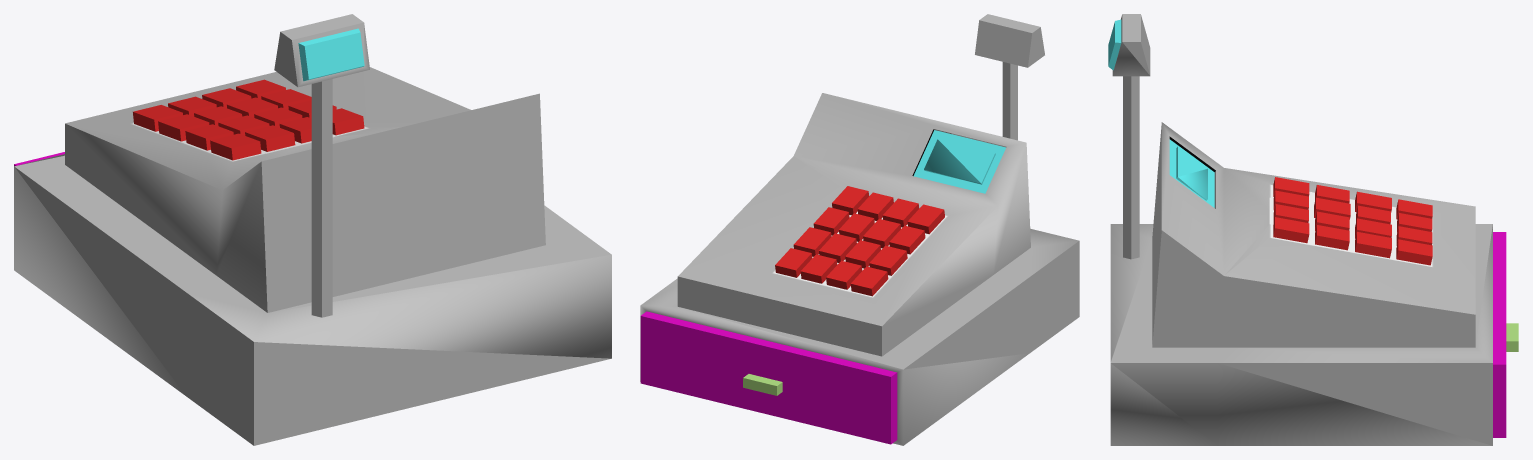
The model's file is Cashier.fbx.
The picture shows the model from 3 angles, left to right: view 1: azimuth 30°, elevation 25°; view 2: azimuth 150°, elevation 25°; view 3: azimuth 270°, elevation 25°; orthographic projection. The views are drawn at different scales.
Parts seen in each view (by area): view 1: Cashier; view 2: Cashier; view 3: Cashier.
Boxes of the visible parts, x1,y1,x2,y2 form: Cashier: (14, 14, 611, 445); Cashier: (640, 14, 1079, 445); Cashier: (1108, 14, 1518, 445).
Size of the model in its own units: 3.8 by 3.95 by 4.73.
5 materials, 1 textured.
